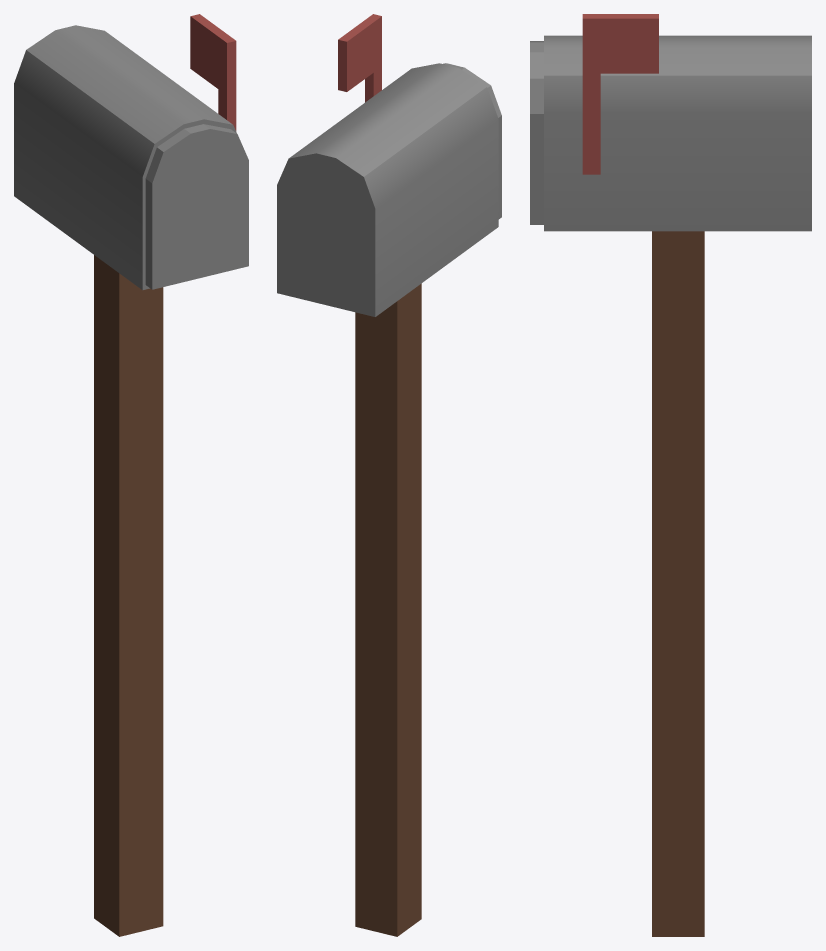
The model's file is mailbox.fbx.
3 views of the same model, side by side, from view 1: azimuth 30°, elevation 25°; view 2: azimuth 150°, elevation 25°; view 3: azimuth 270°, elevation 25° (orthographic). The views are drawn at different scales.
Visible parts, largest first — view 1: mailbox, pCube1195, pCube1196; view 2: mailbox, pCube1195, pCube1196; view 3: pCube1195, mailbox, pCube1196.
Part boxes in pixels (left/top/right/bottom): mailbox: left=94, top=255, right=163, bottom=936; pCube1195: left=14, top=25, right=248, bottom=290; pCube1196: left=190, top=14, right=236, bottom=130; mailbox: left=355, top=283, right=421, bottom=936; pCube1195: left=277, top=63, right=501, bottom=316; pCube1196: left=338, top=14, right=381, bottom=102; pCube1195: left=530, top=35, right=811, bottom=231; mailbox: left=652, top=231, right=704, bottom=936; pCube1196: left=582, top=14, right=658, bottom=174.
Size of the model in its own units: 0.3109 by 2.38 by 0.6483.
